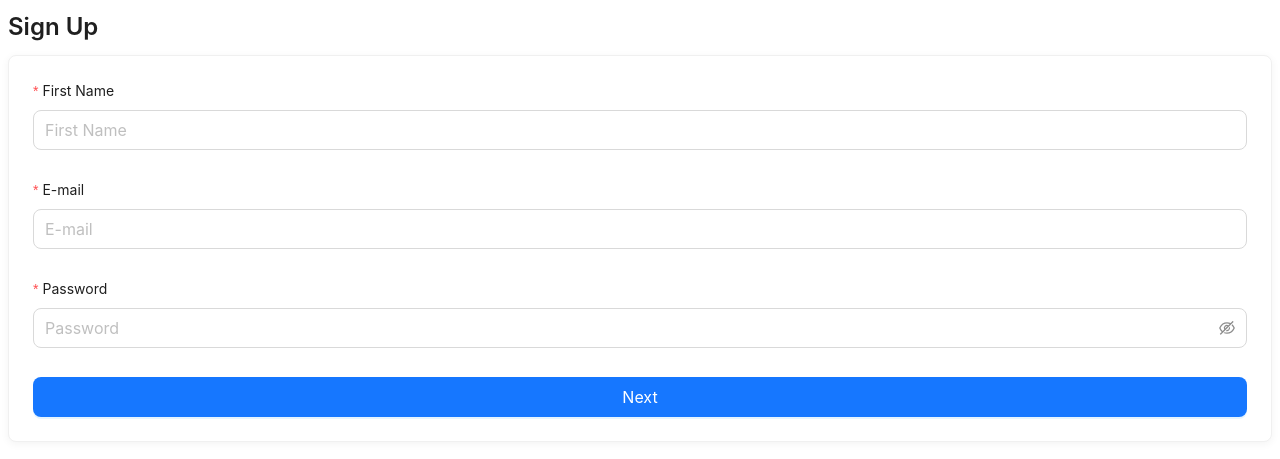
Test: UserData page › Form validations › should not submit form when password is too short
Type "Upgrade" into the field with test id "first-name-input". click: point(640, 130)
box: [33,110,1247,150]
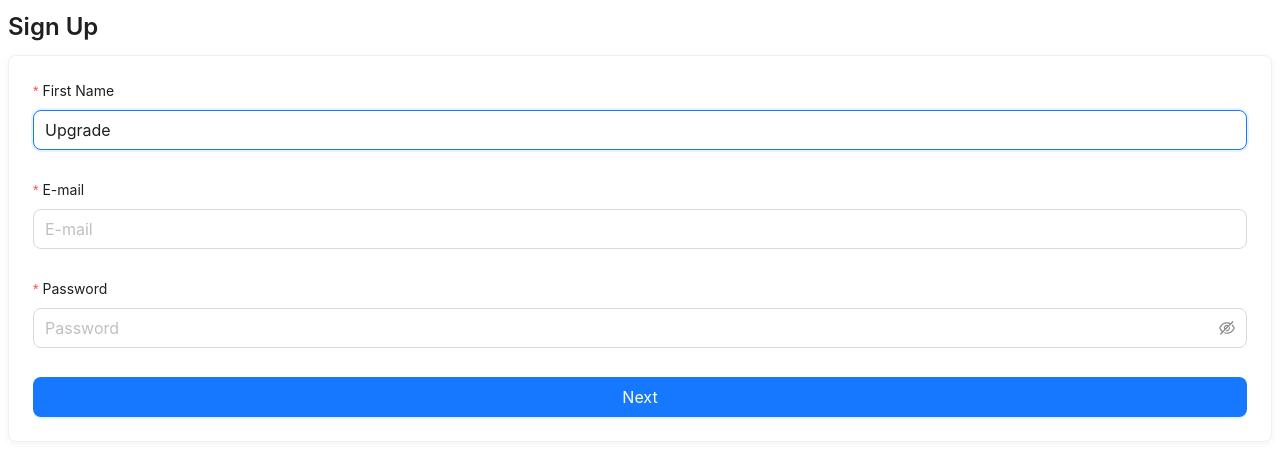
Type "test@upgrade.com" into the field with test id "email-input". click: point(640, 229)
box: [33,209,1247,249]
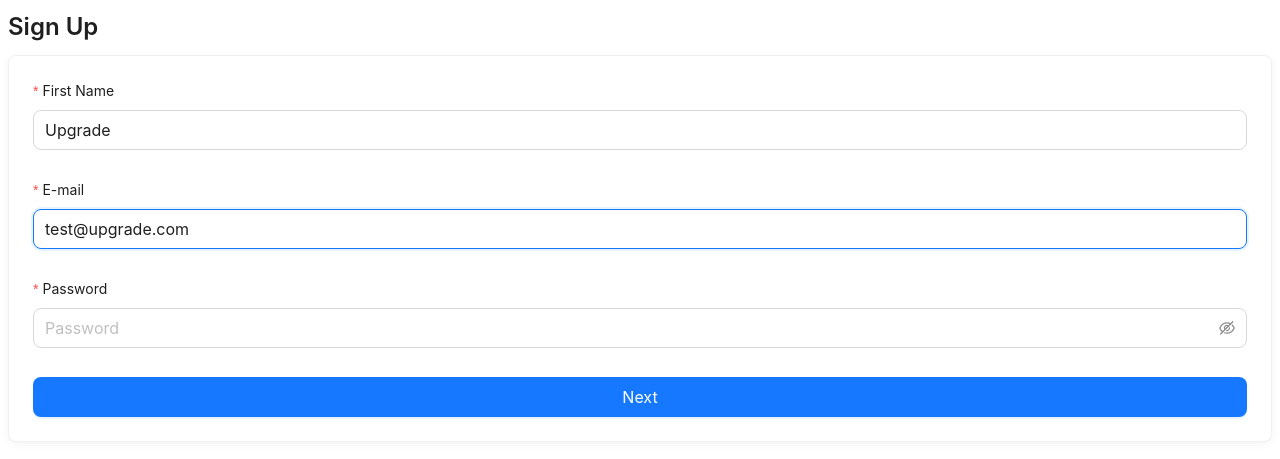
Type "123" into the password field with test id "password-input". click: point(630, 328)
box: [45,316,1215,340]
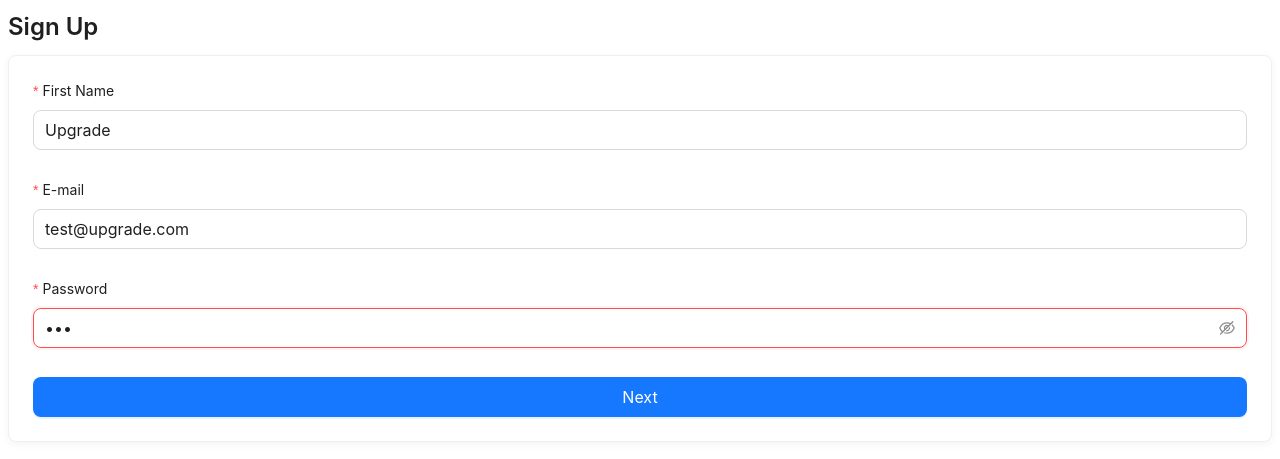
Click the button with test id "submit-button". click: point(640, 397)
box: [33,377,1247,417]
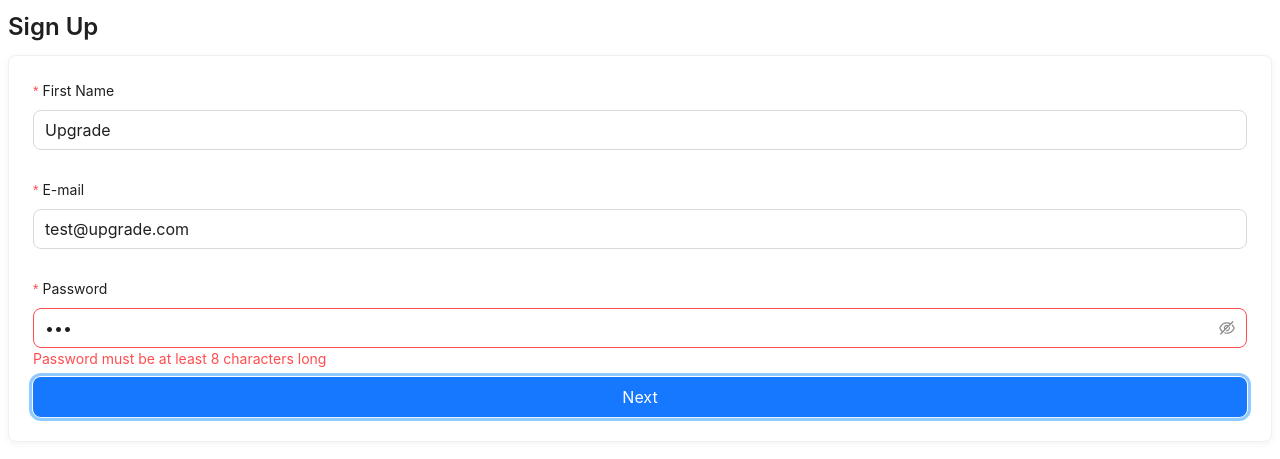
Result: the text "Password must be at least 8 characters long" is shown at [33,350,326,367]
